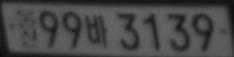1: (141, 11, 165, 51)
3: (166, 12, 191, 52), (116, 11, 140, 50)
9: (190, 11, 214, 53), (61, 10, 82, 49), (39, 9, 59, 47)
바: (84, 13, 109, 48)
울산_V: (14, 7, 39, 49)
